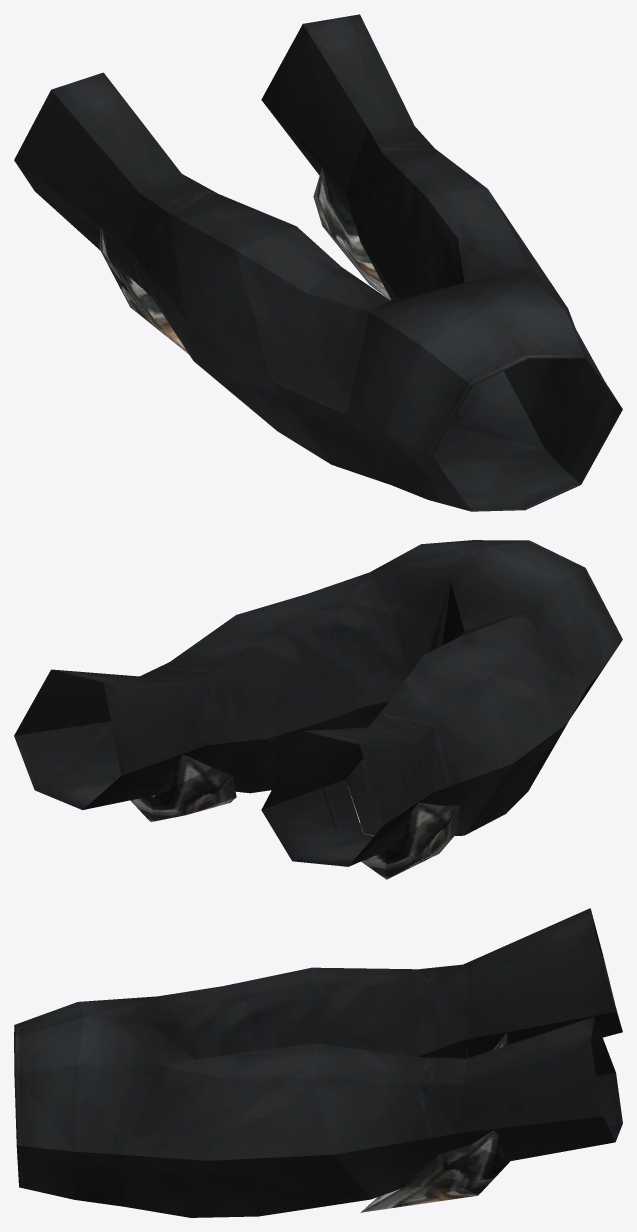
Rendered from taoist_trousers_male_53700.obj.
The picture shows the model from 3 angles, top to bottom: view 1: azimuth 30°, elevation 25°; view 2: azimuth 150°, elevation 25°; view 3: azimuth 270°, elevation 25°; orthographic projection. The views are drawn at different scales.
Visible parts, largest first — view 1: taoist_trousers_male_53700; view 2: taoist_trousers_male_53700; view 3: taoist_trousers_male_53700.
Boxes of the visible parts, x1=… form: taoist_trousers_male_53700: x1=14, y1=14, x2=622, y2=511; taoist_trousers_male_53700: x1=14, y1=540, x2=622, y2=879; taoist_trousers_male_53700: x1=14, y1=908, x2=622, y2=1217.
Size of the model in its own units: 22.34 by 13.45 by 35.86.
Materials: 2 (2 with a texture image).
